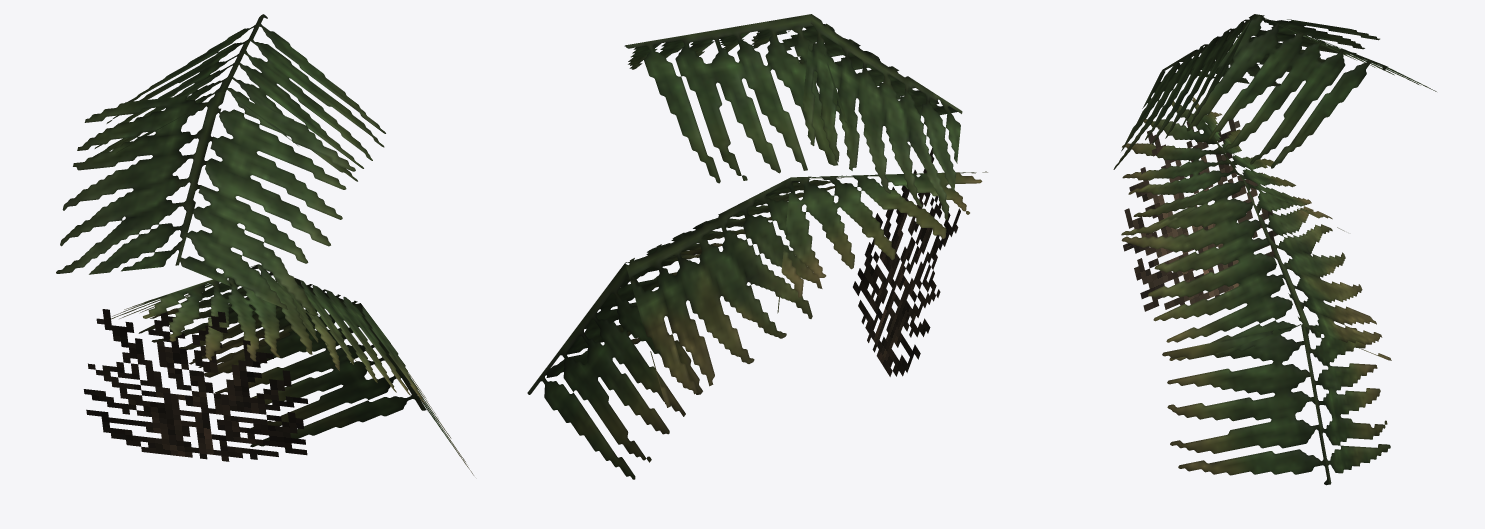
File: caribbean_royal_palm_corner_2.obj
The picture shows the model from 3 angles, left to right: view 1: azimuth 30°, elevation 25°; view 2: azimuth 150°, elevation 25°; view 3: azimuth 270°, elevation 25°; orthographic projection. The views are drawn at different scales.
Parts seen in each view (by area): view 1: cube.323; view 2: cube.323; view 3: cube.323.
Part boxes in pixels (x1,y1,x2,y2): cube.323: (56,14,473,475); cube.323: (527,14,987,479); cube.323: (1113,14,1436,485).
Size of the model in its own units: 3 by 3.17 by 2.87.
